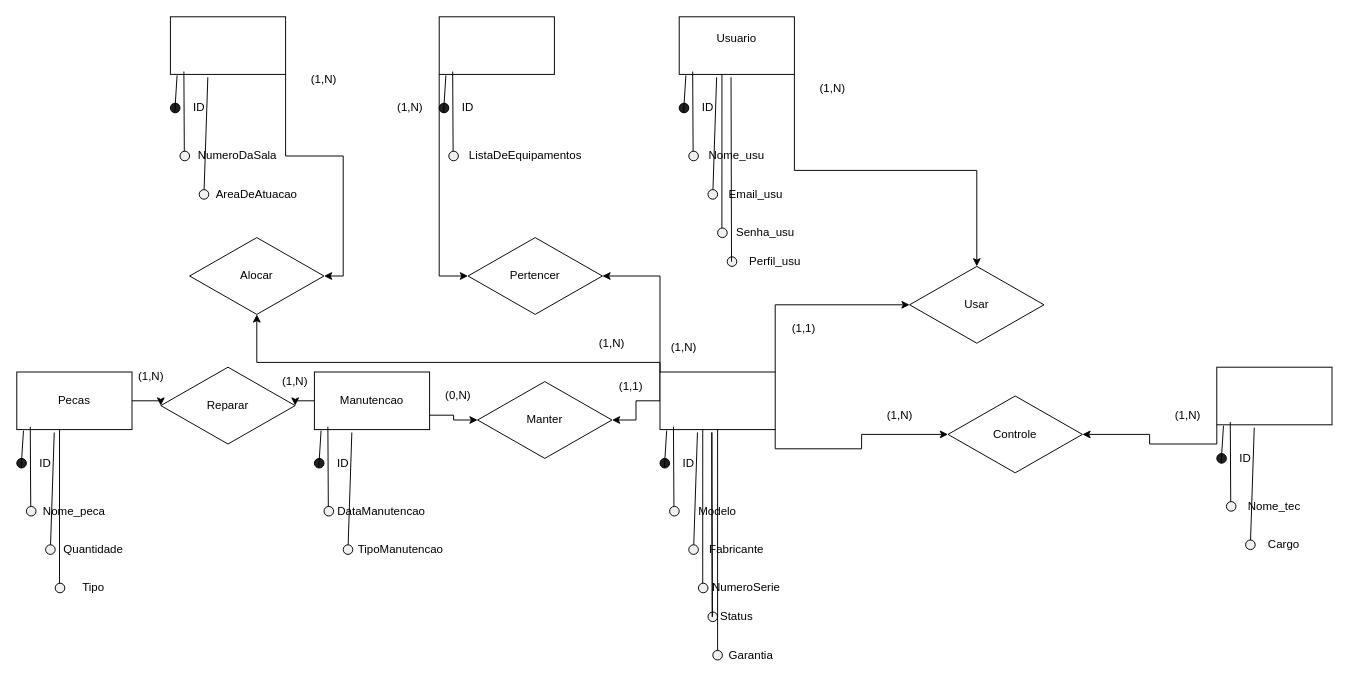
Image size: 1349x686. Some labels were removed from this diagram. Each missing label, with the centre of its shape:
Equipamento: point (717, 400)
Laboratório: point (227, 45)
Lote: point (496, 45)
Tecnico: point (1274, 395)
